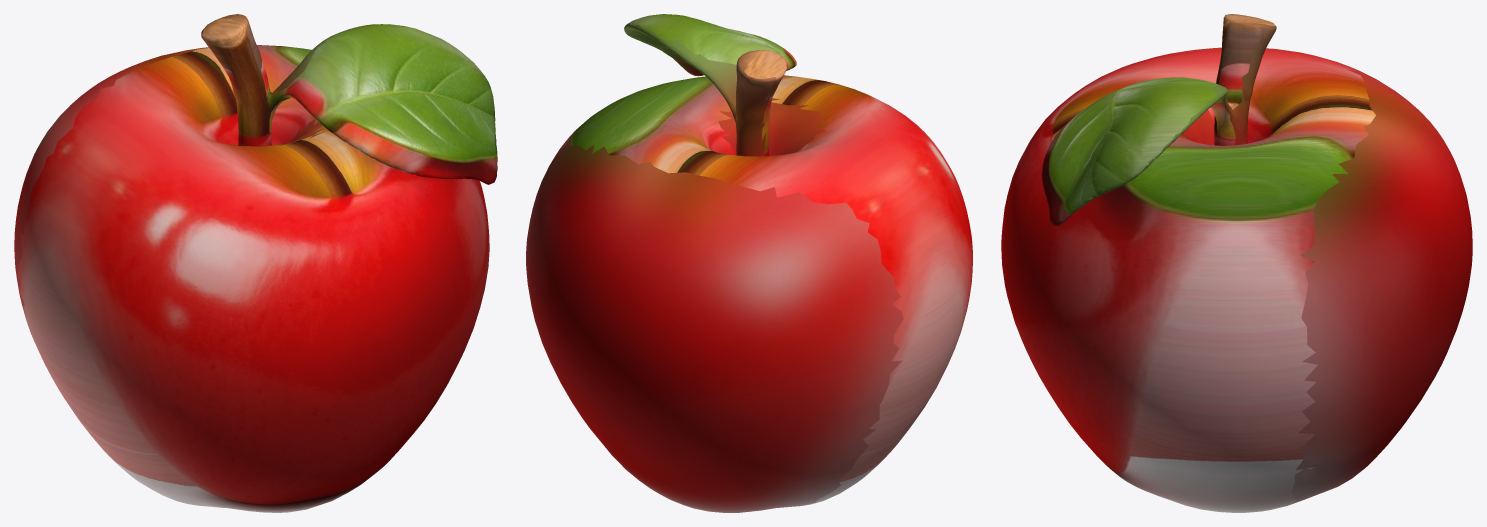
The model's file is apple.glb.
3 views of the same model, side by side, from view 1: azimuth 30°, elevation 25°; view 2: azimuth 150°, elevation 25°; view 3: azimuth 270°, elevation 25° (orthographic). The views are drawn at different scales.
Parts seen in each view (by area): view 1: apple; view 2: apple; view 3: apple.
Part boxes in pixels (x1,y1,x2,y2): apple: [14, 14, 497, 512]; apple: [526, 14, 972, 512]; apple: [1001, 14, 1472, 512].
Bounding box in the file's own units: 3.58 × 3.8 × 3.6.
Materials: 1 (1 with a texture image).
